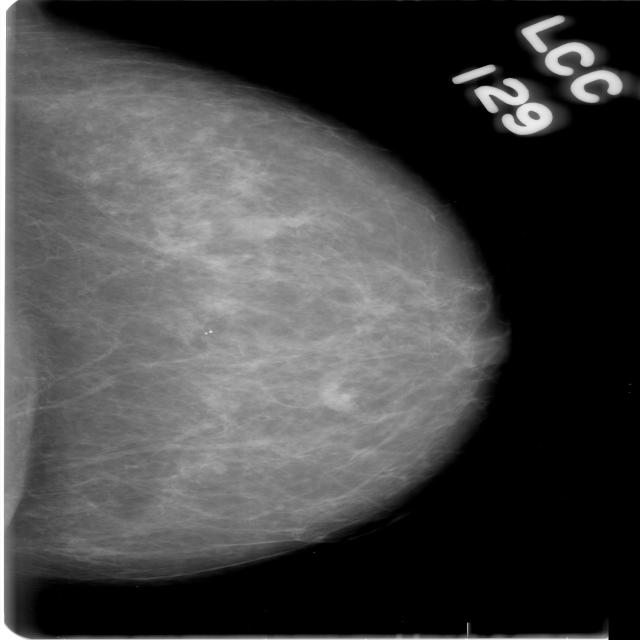normal: (0, 50, 523, 587)
